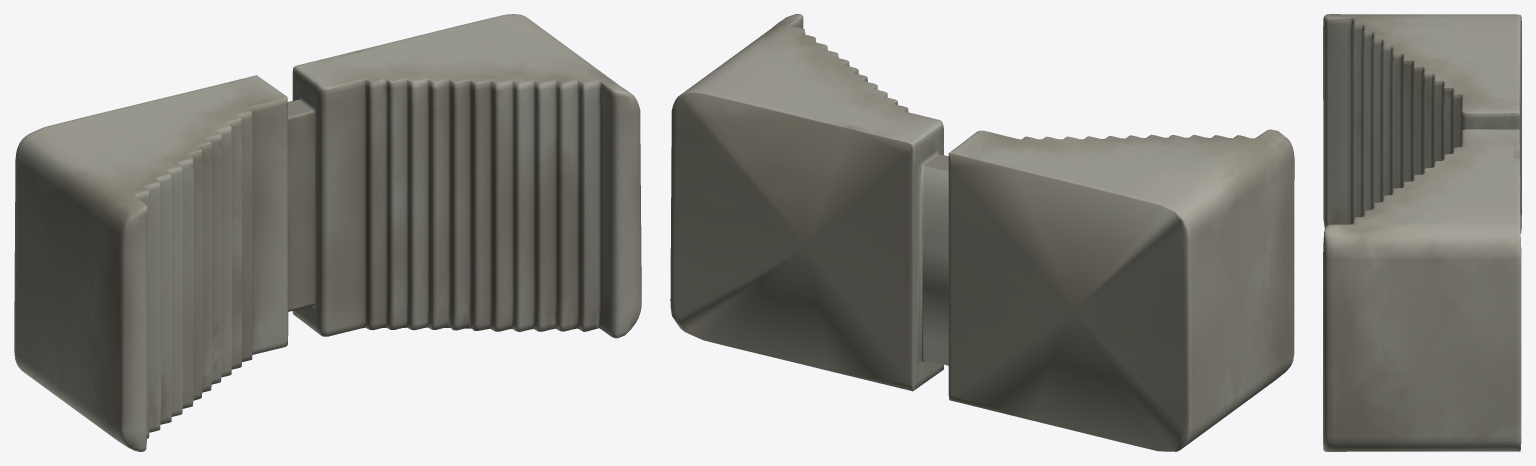
Rendered from Fader_01.dae.
3 renders of one model, left to right at view 1: azimuth 30°, elevation 25°; view 2: azimuth 150°, elevation 25°; view 3: azimuth 270°, elevation 25°, orthographic. The views are drawn at different scales.
Parts seen in each view (by area): view 1: Fader_01_LOD0; view 2: Fader_01_LOD0; view 3: Fader_01_LOD0.
Part boxes in pixels (<box>): Fader_01_LOD0: <box>14,14,641,451</box>; Fader_01_LOD0: <box>670,14,1294,451</box>; Fader_01_LOD0: <box>1323,14,1521,451</box>.
Size of the model in its own units: 15.04 by 6.85 by 5.46.
